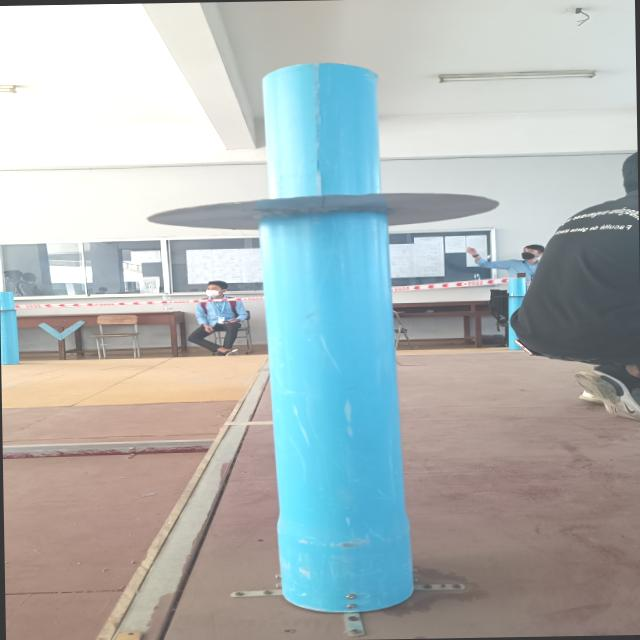pole: (114, 47, 518, 376)
